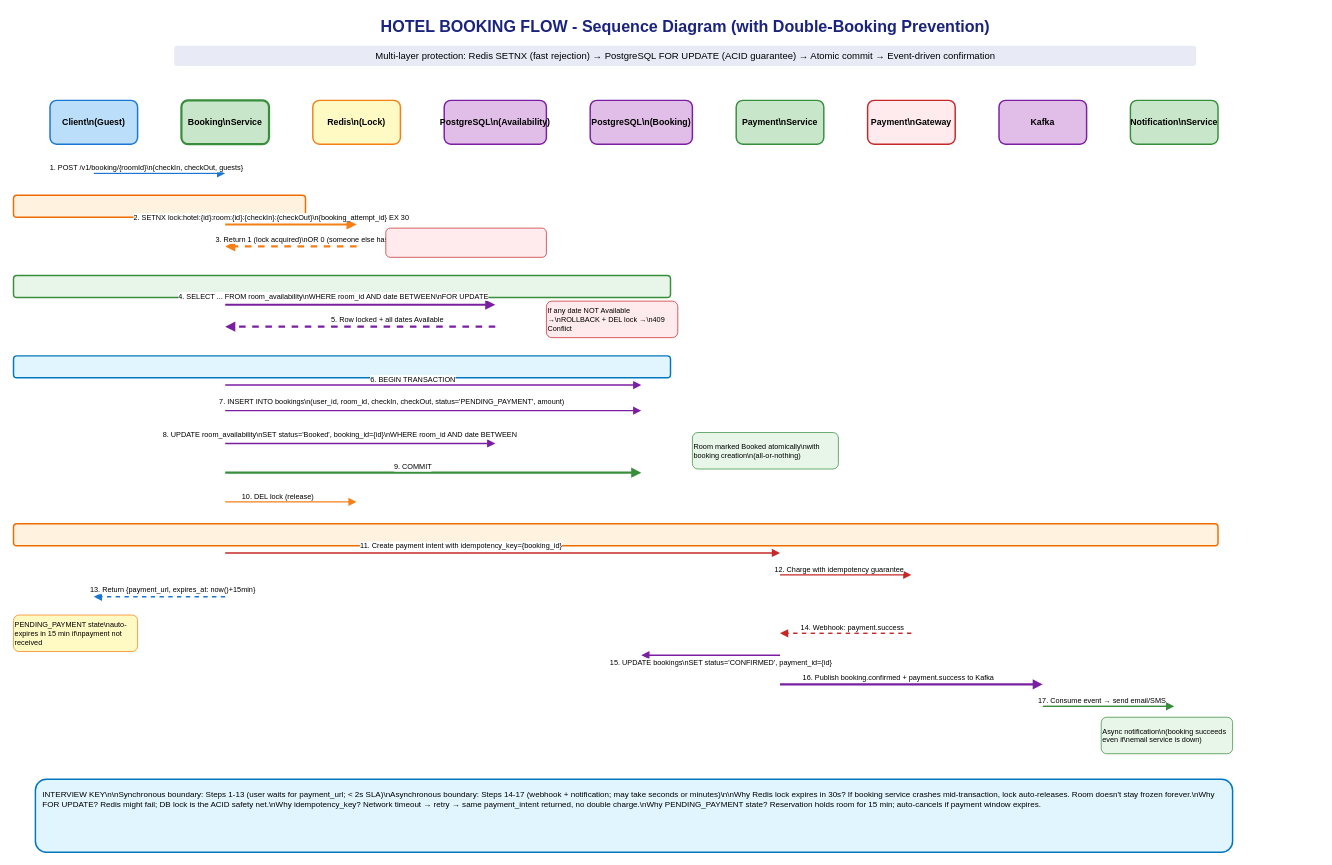
Image size: 1332x865. Some labels were removed from this diagram. Each missing label, with the box of its shape:
If 0 → return 409 Conflict immediately\n(499 users rejected here in 1-2 ms): (385, 227, 546, 257)
PHASE 1: ACQUIRE DISTRIBUTED LOCK (fast rejection): (12, 194, 306, 218)
PHASE 2: PESSIMISTIC DB CHECK (ACID guarantee): (12, 274, 671, 298)
PHASE 3: ATOMIC BOOKING COMMIT: (12, 355, 671, 378)
PHASE 4: PAYMENT + EVENT NOTIFICATION: (12, 523, 1218, 546)
